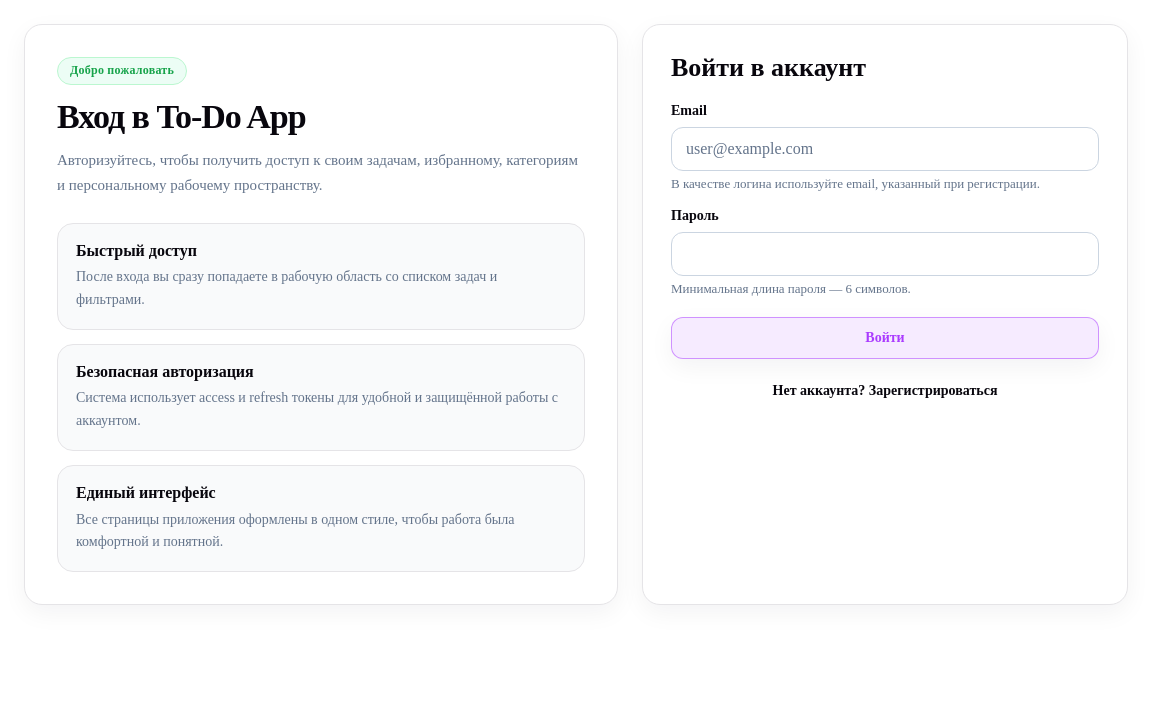
Test: Login Page › переключается на форму регистрации
This screenshot has width=1152, height=720.
Click the button "Нет аккаунта? Зарегистрироваться": point(885, 388) x1=671 y1=377 x2=1099 y2=399
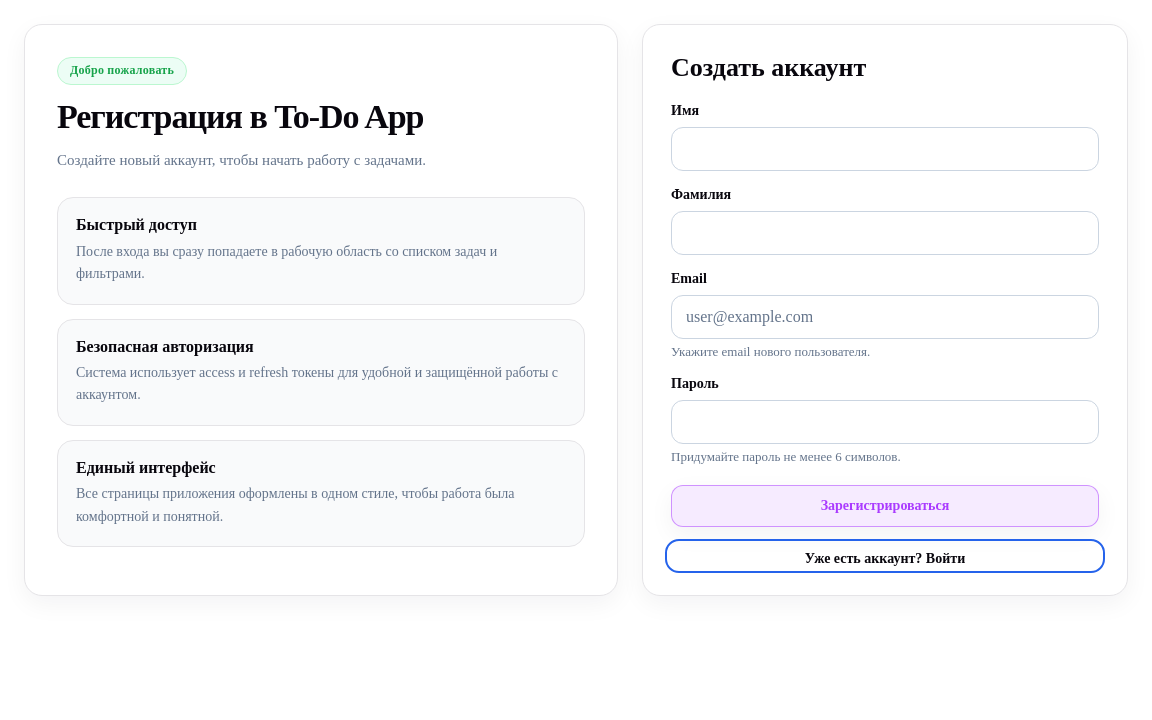
Expected: the heading "Регистрация в To-Do App" is shown, x1=57 y1=98 x2=424 y2=135
Expected: the heading "Создать аккаунт" is shown, x1=671 y1=53 x2=866 y2=82
Expected: the field labelled "Имя" is shown, x1=671 y1=127 x2=1099 y2=171
